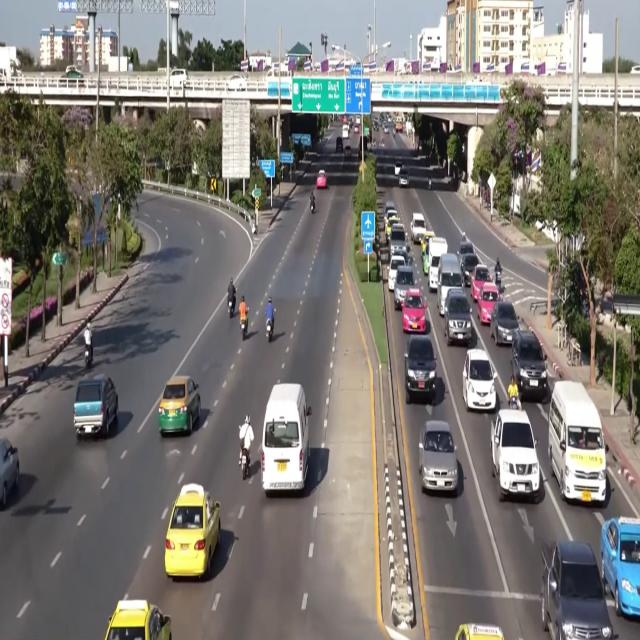car: (164, 484, 220, 578), (491, 409, 541, 502), (601, 518, 639, 616), (74, 374, 118, 439), (419, 420, 458, 493), (511, 329, 548, 399), (106, 600, 171, 639), (159, 376, 200, 435), (405, 334, 436, 404), (463, 349, 496, 411), (444, 288, 472, 344), (0, 438, 19, 510), (490, 301, 519, 344), (402, 288, 426, 333), (477, 283, 500, 324), (394, 266, 415, 310), (471, 264, 491, 301), (455, 624, 504, 639), (389, 223, 409, 255), (388, 256, 406, 291), (461, 254, 479, 287), (421, 230, 434, 275), (410, 213, 426, 244), (385, 209, 399, 238), (421, 229, 434, 258), (227, 74, 247, 91), (457, 240, 475, 258), (170, 69, 187, 88), (394, 249, 413, 265), (63, 65, 84, 79), (316, 170, 328, 189), (399, 168, 409, 187), (385, 200, 396, 215), (394, 161, 403, 175), (336, 137, 343, 151), (344, 145, 352, 156), (630, 65, 639, 74), (354, 125, 359, 134), (383, 125, 388, 134), (355, 116, 360, 125)
scooty: (241, 448, 249, 480), (84, 345, 92, 369), (241, 318, 247, 340), (266, 320, 272, 342), (495, 271, 501, 292), (228, 298, 234, 318)
truck: (541, 540, 612, 639), (0, 47, 21, 80)
